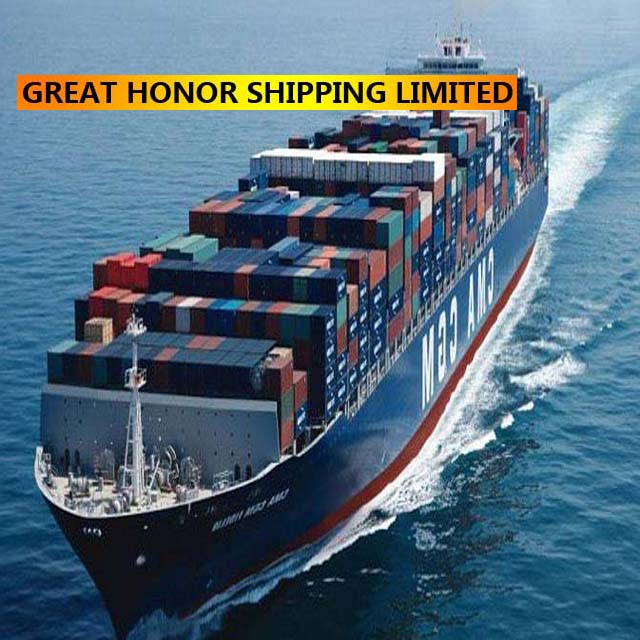Cargoship: (36, 27, 550, 638)
